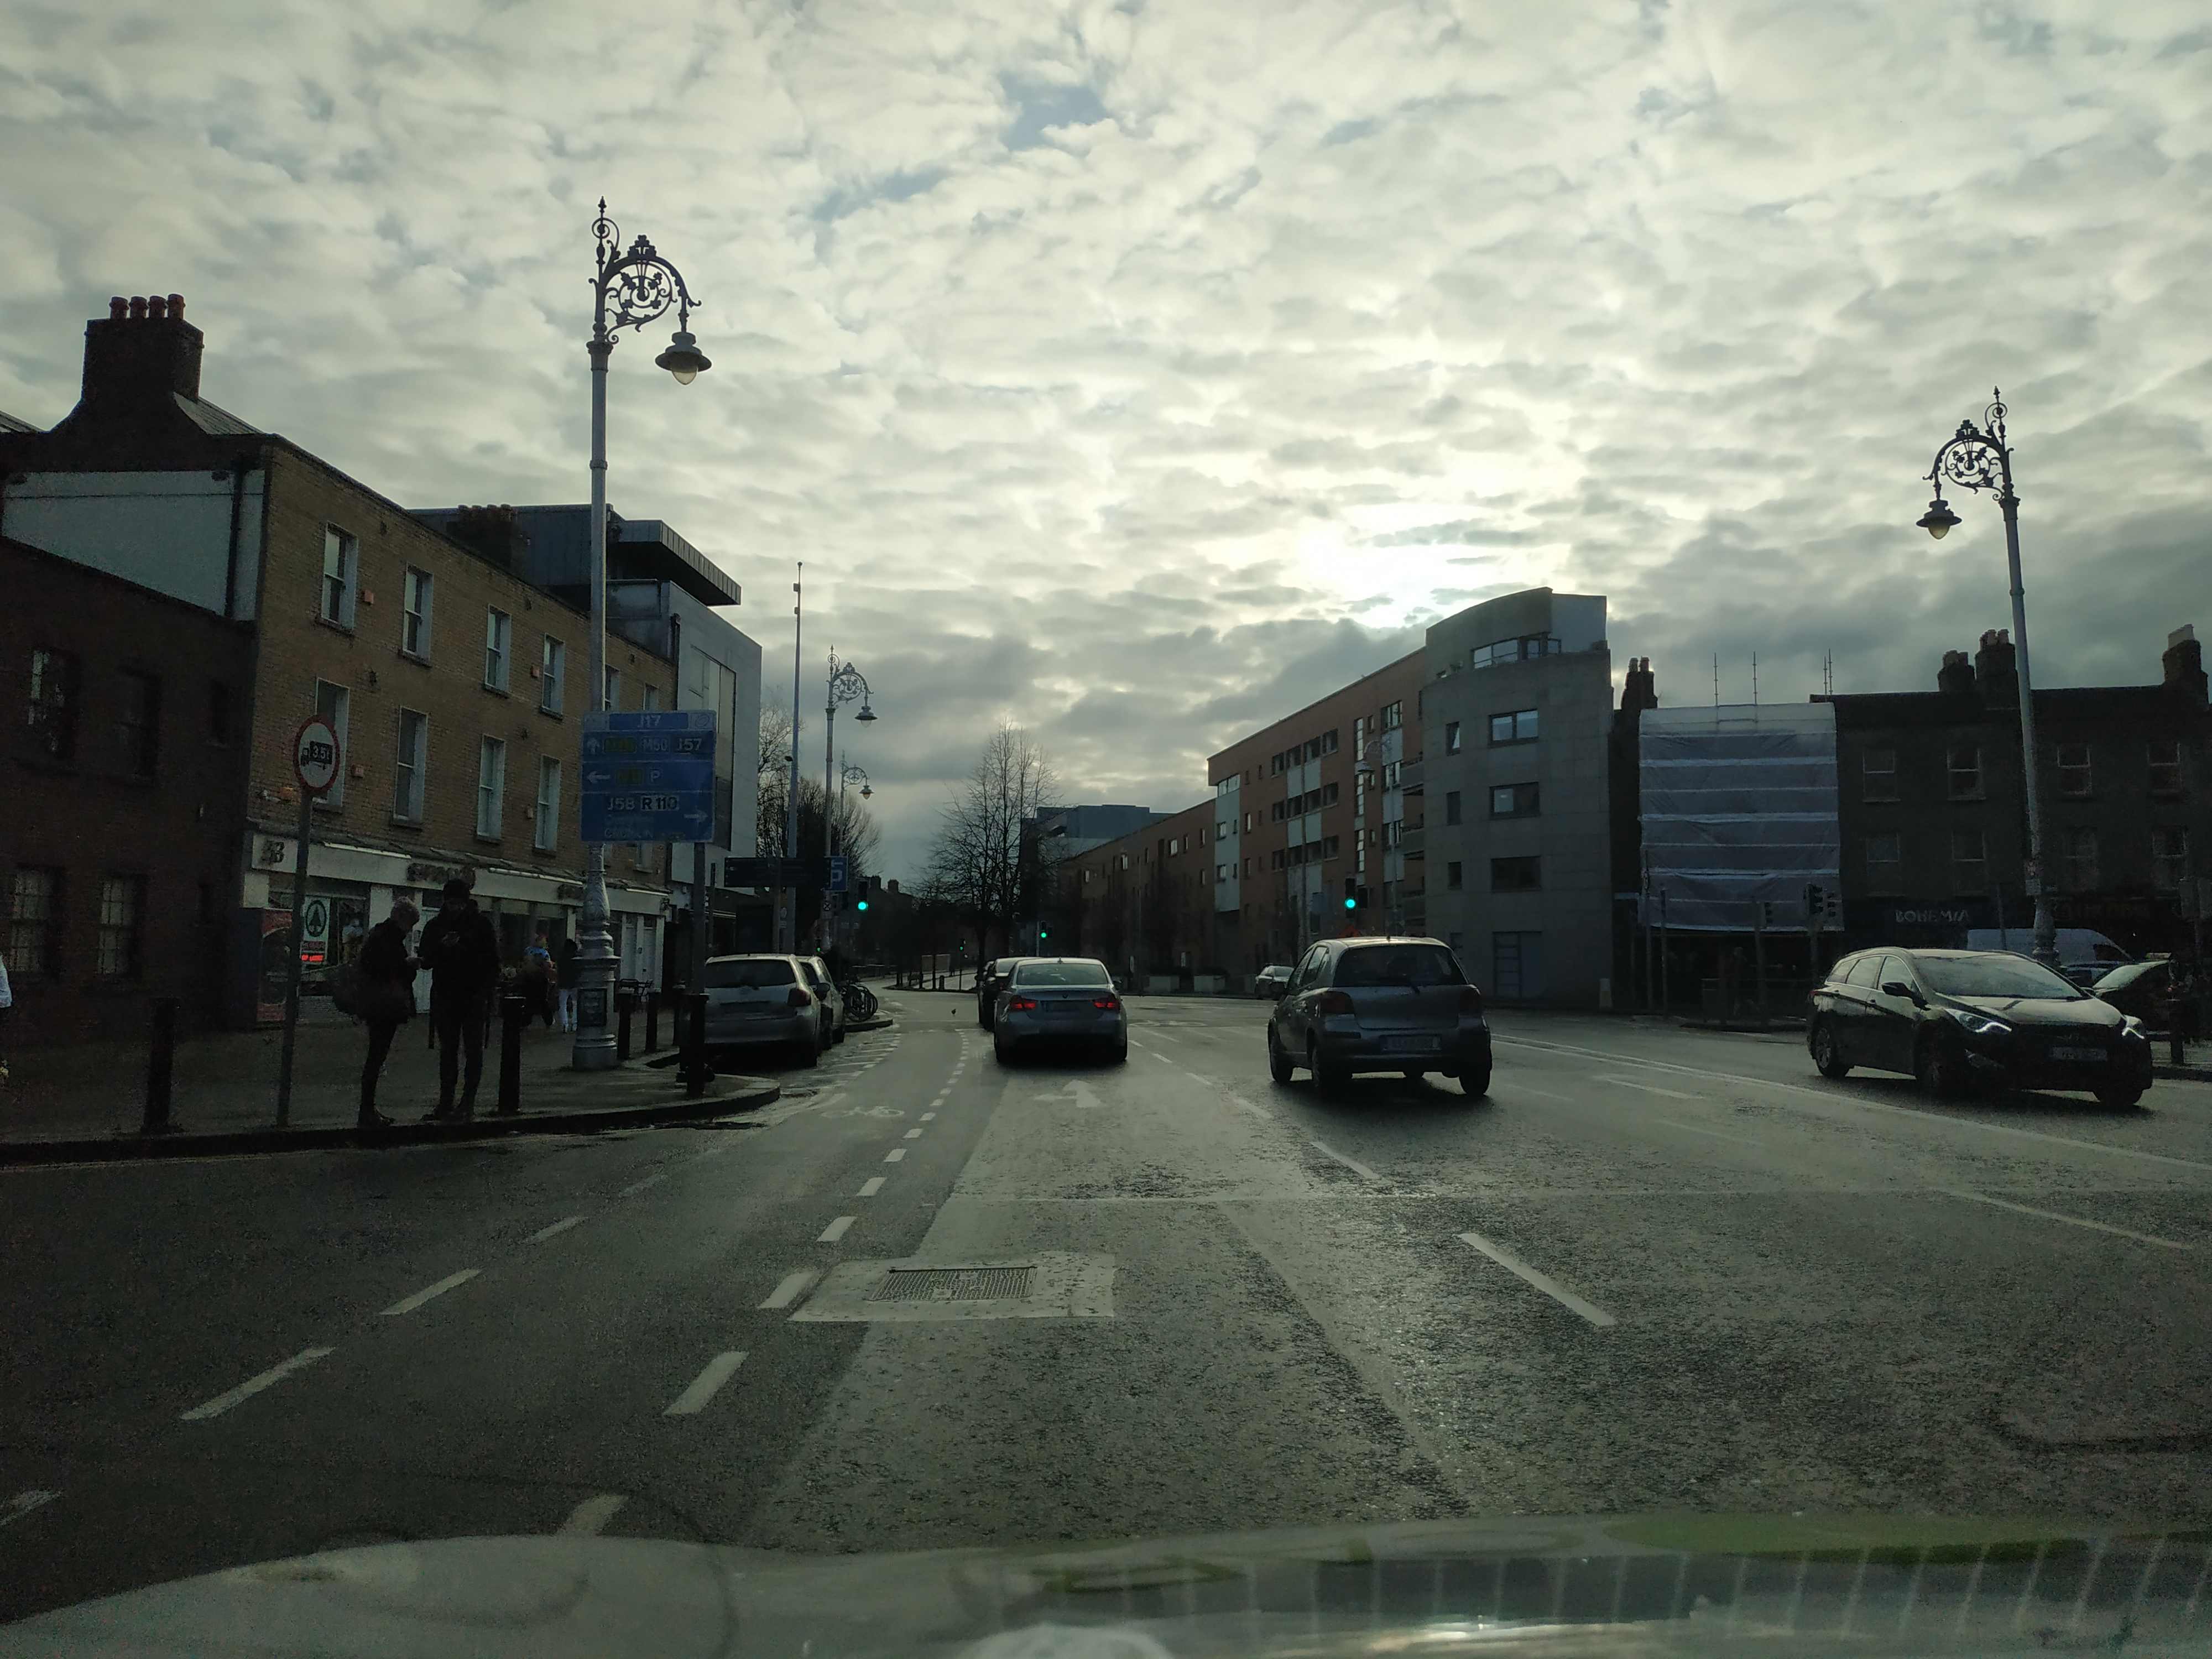Car: (1806, 947, 2153, 1105), (1267, 936, 1492, 1094), (696, 954, 830, 1067), (993, 957, 1127, 1063)
Person: (418, 880, 500, 1123), (356, 896, 424, 1128), (515, 936, 557, 1029), (555, 941, 578, 1033)
